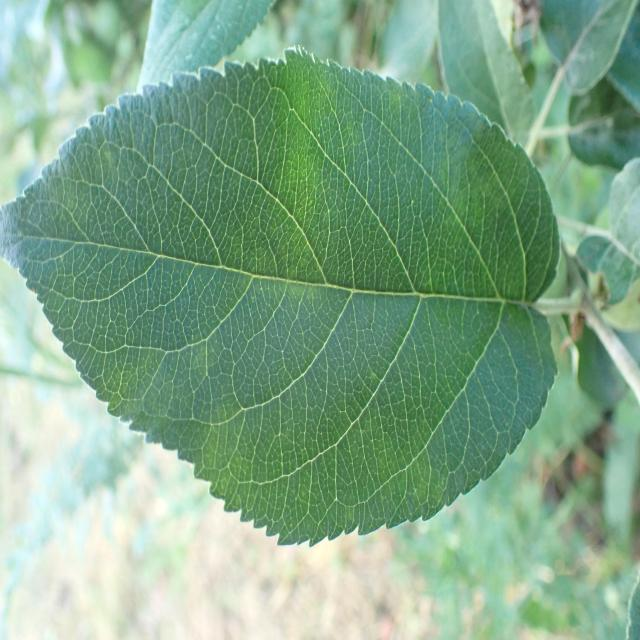healthy: (2, 46, 561, 548), (138, 0, 272, 94)
